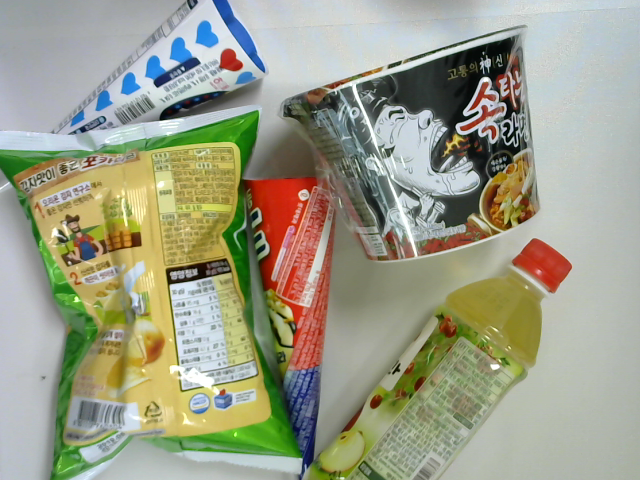Bravo_Cone_(Banila)_CVS: (1, 5, 277, 206)
HeJangsock: (274, 17, 557, 280)
Morning_Apple_500ml: (289, 231, 577, 480)
Pocachip_Onion: (1, 91, 313, 480)
World_Cone_Banila: (228, 165, 333, 480)
